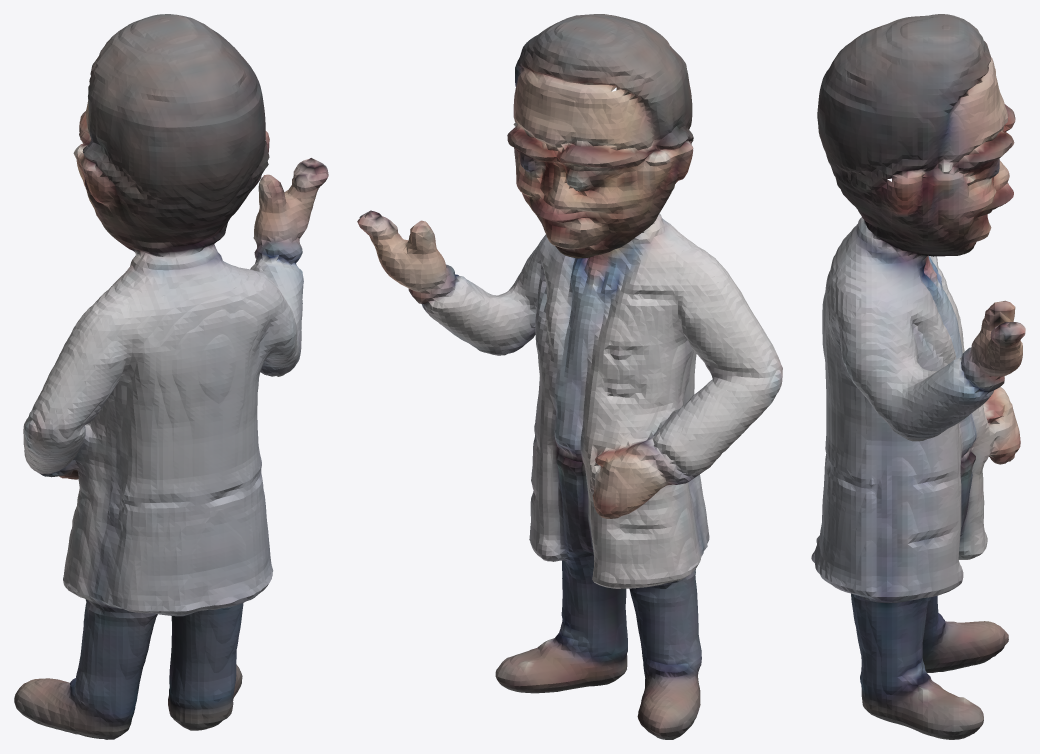
The model's file is mr_mena_character.glb.
3 renders of one model, left to right at view 1: azimuth 30°, elevation 25°; view 2: azimuth 150°, elevation 25°; view 3: azimuth 270°, elevation 25°, orthographic. The views are drawn at different scales.
Visible parts, largest first — view 1: world; view 2: world; view 3: world.
Boxes of the visible parts, bbox=[...] form: world: bbox=[14, 14, 328, 739]; world: bbox=[357, 14, 782, 739]; world: bbox=[811, 14, 1025, 739].
Bounding box in the file's own units: 0.5554 × 1 × 0.2842.
